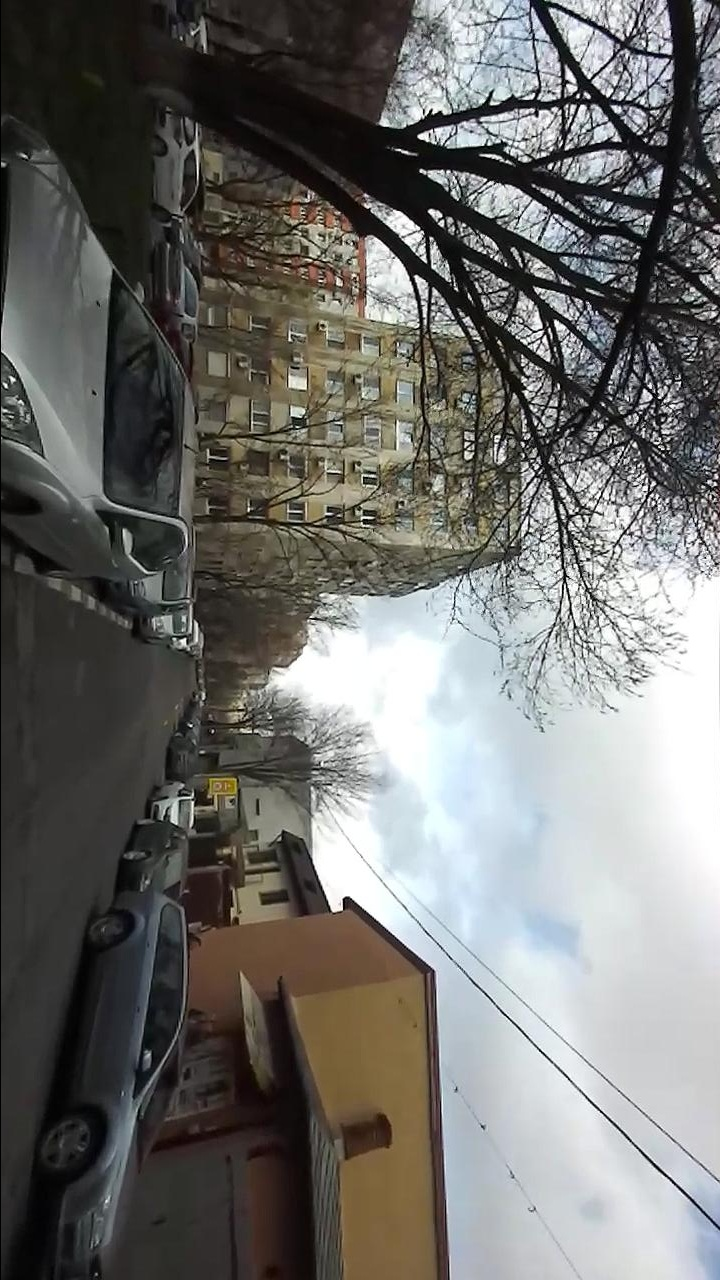pothole: (10, 721, 30, 766)
